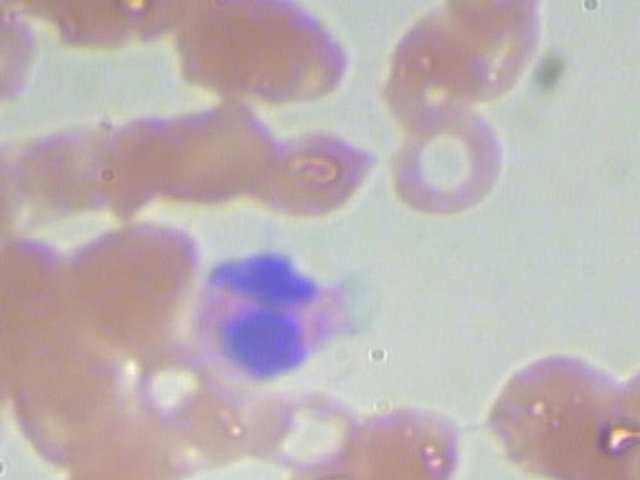RBC: (173, 0, 358, 109), (478, 349, 628, 479), (142, 93, 279, 216), (370, 1, 497, 129), (60, 213, 200, 321), (382, 107, 520, 216), (256, 118, 384, 224), (241, 379, 367, 471), (336, 398, 464, 480), (127, 336, 227, 433), (0, 0, 45, 138)
WBC: (188, 249, 359, 387)
